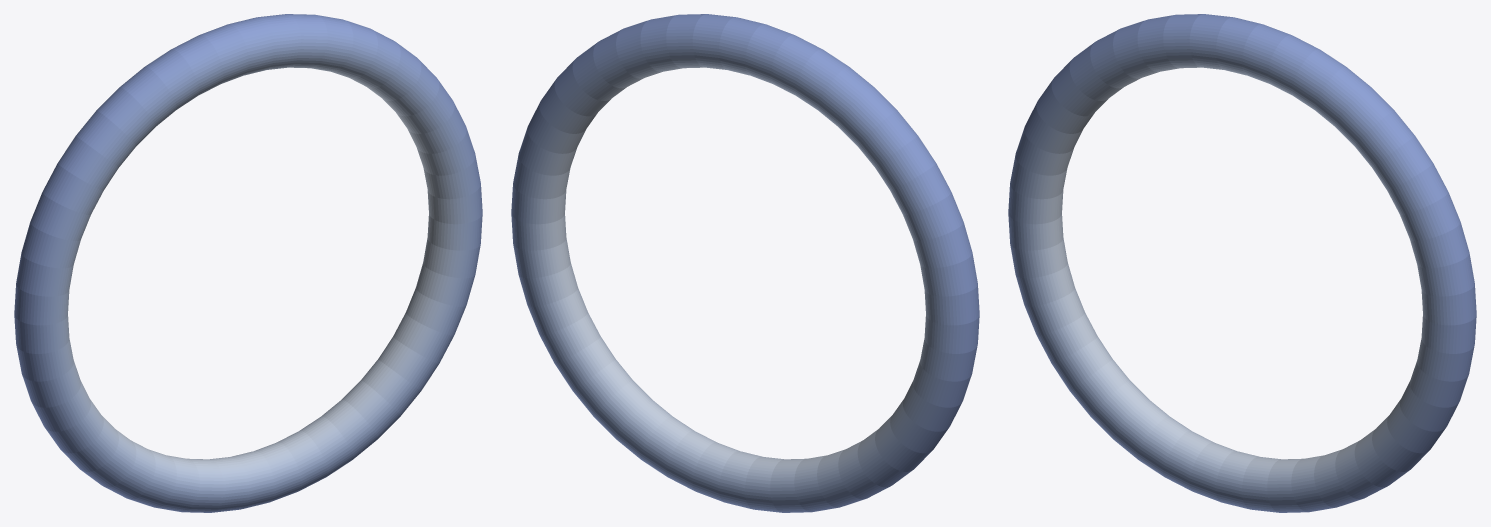
3 views of the same model, side by side, from view 1: azimuth 30°, elevation 25°; view 2: azimuth 150°, elevation 25°; view 3: azimuth 330°, elevation 25° (orthographic).
Visible parts, largest first — view 1: world; view 2: world; view 3: world.
Boxes of the visible parts, x1,y1,x2,y2 form: world: (14,14,482,512); world: (511,14,979,512); world: (1008,14,1476,512).
Size of the model in its own units: 30.4 by 30.34 by 3.06.
